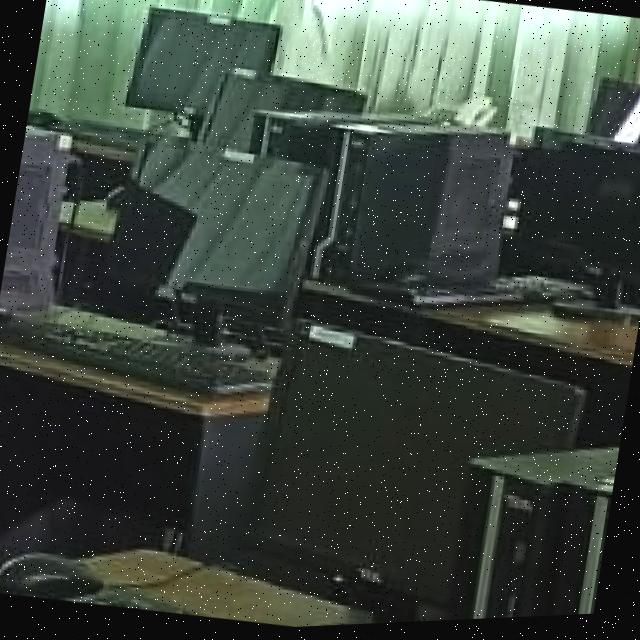offscreen: (256, 339, 583, 605)
